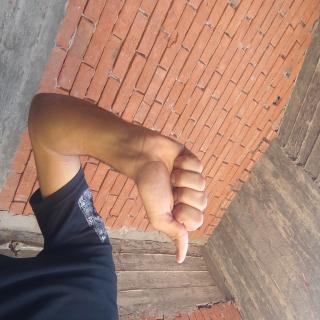DAD: (92, 139, 199, 255)
